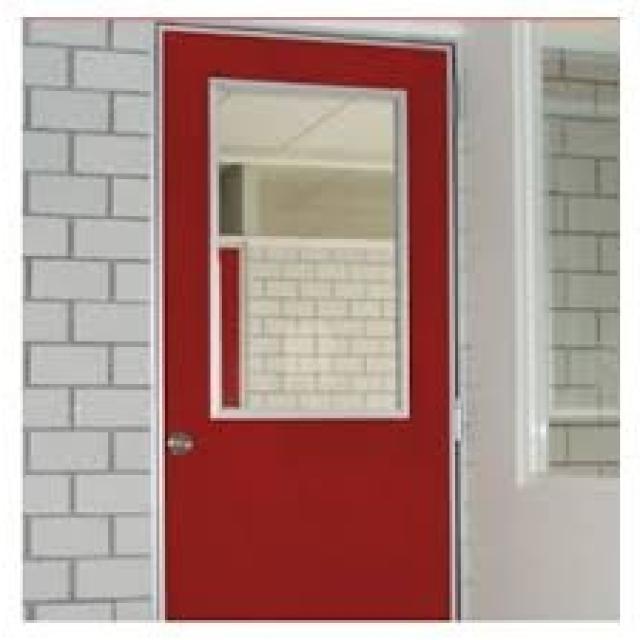door: (158, 27, 456, 622)
